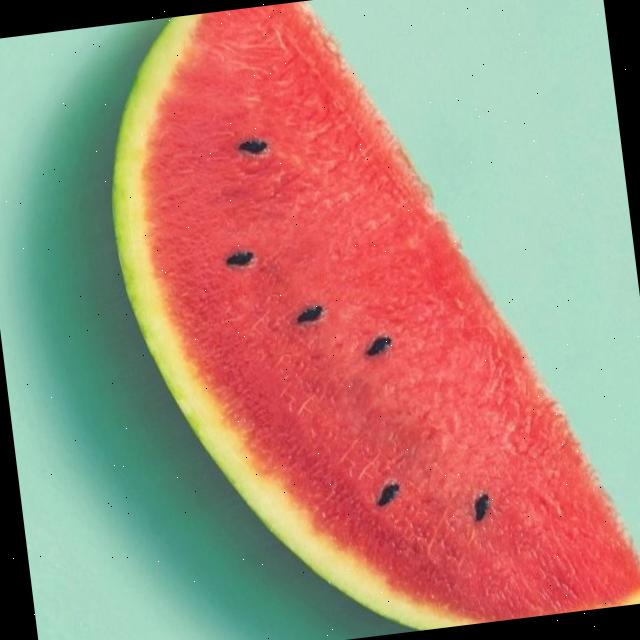watermelon: (92, 0, 640, 640)
